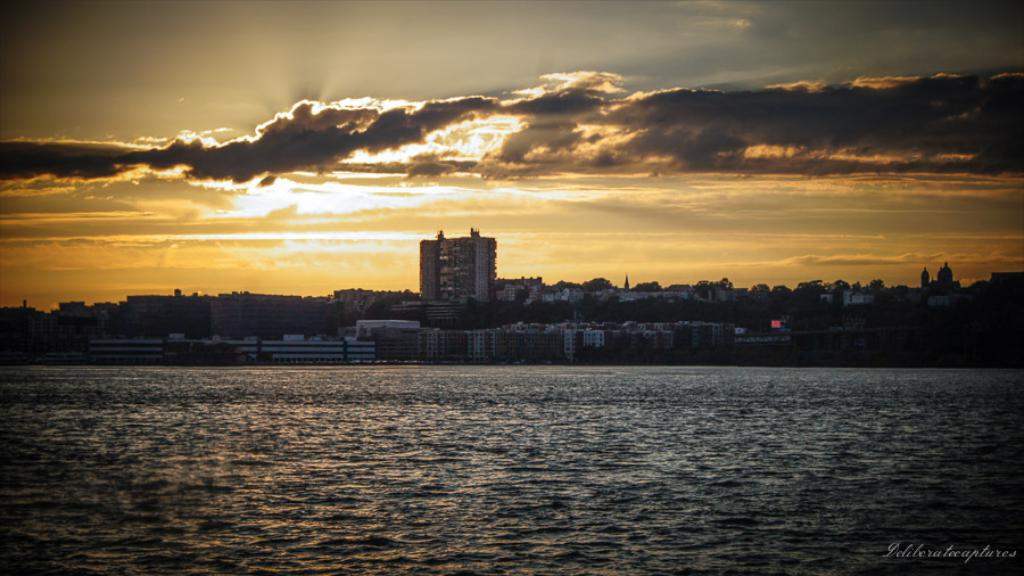Tree: (581, 276, 610, 292)
